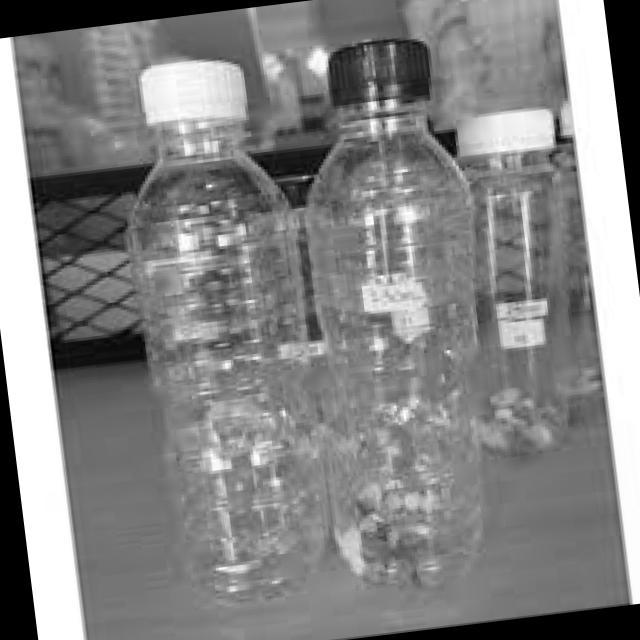good: (93, 31, 337, 604), (296, 27, 536, 598)
